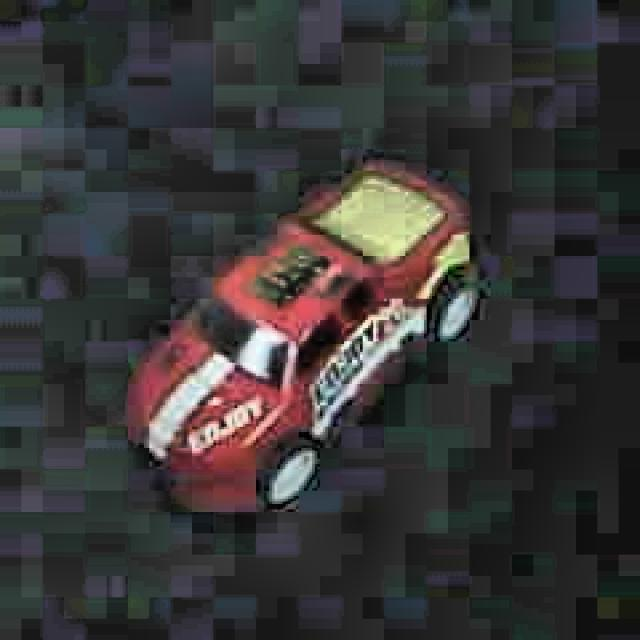car: (119, 150, 487, 518)
